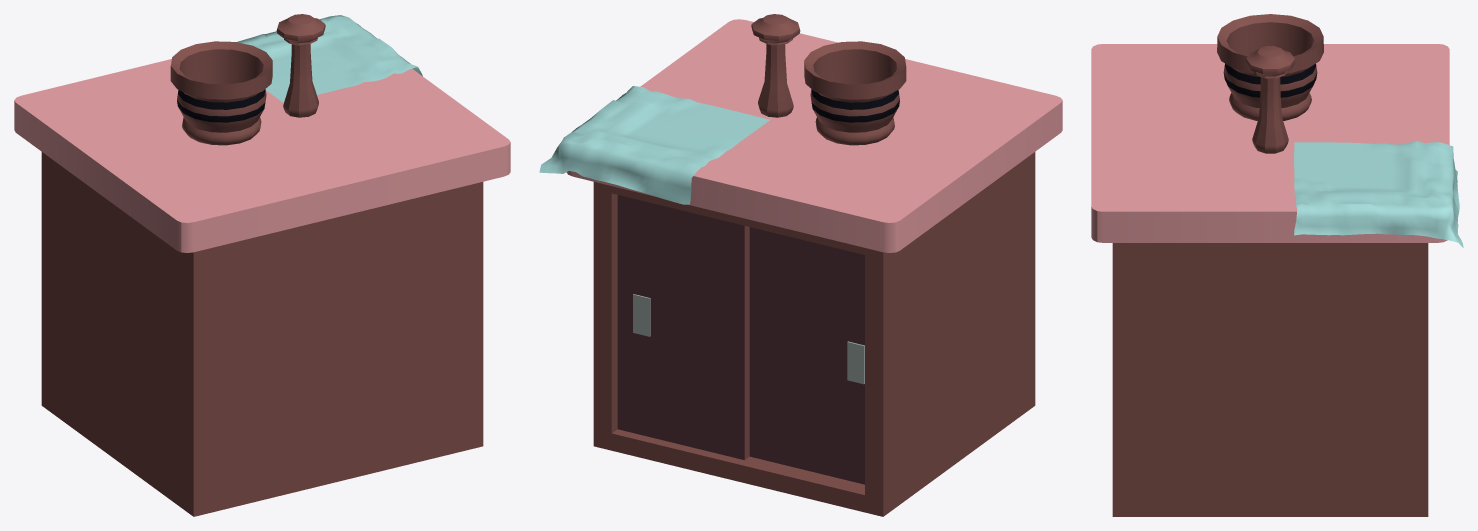
File: BancadaAmassar 1.fbx
3 views of the same model, side by side, from view 1: azimuth 30°, elevation 25°; view 2: azimuth 150°, elevation 25°; view 3: azimuth 270°, elevation 25° (orthographic). The views are drawn at different scales.
Parts seen in each view (by area): view 1: Cube.024, Cube.003, Cube.018; view 2: Cube.024, Cube.003, Cube.018; view 3: Cube.024, Cube.003, Cube.018.
Boxes of the visible parts, x1,y1,x2,y2 form: Cube.024: (14,15,510,516); Cube.003: (170,41,272,145); Cube.018: (276,14,325,117); Cube.024: (539,19,1062,516); Cube.003: (804,41,906,145); Cube.018: (751,14,800,117); Cube.024: (1091,44,1463,516); Cube.003: (1217,14,1323,120); Cube.018: (1245,46,1295,153).
Size of the model in its own units: 192 by 210 by 171.
